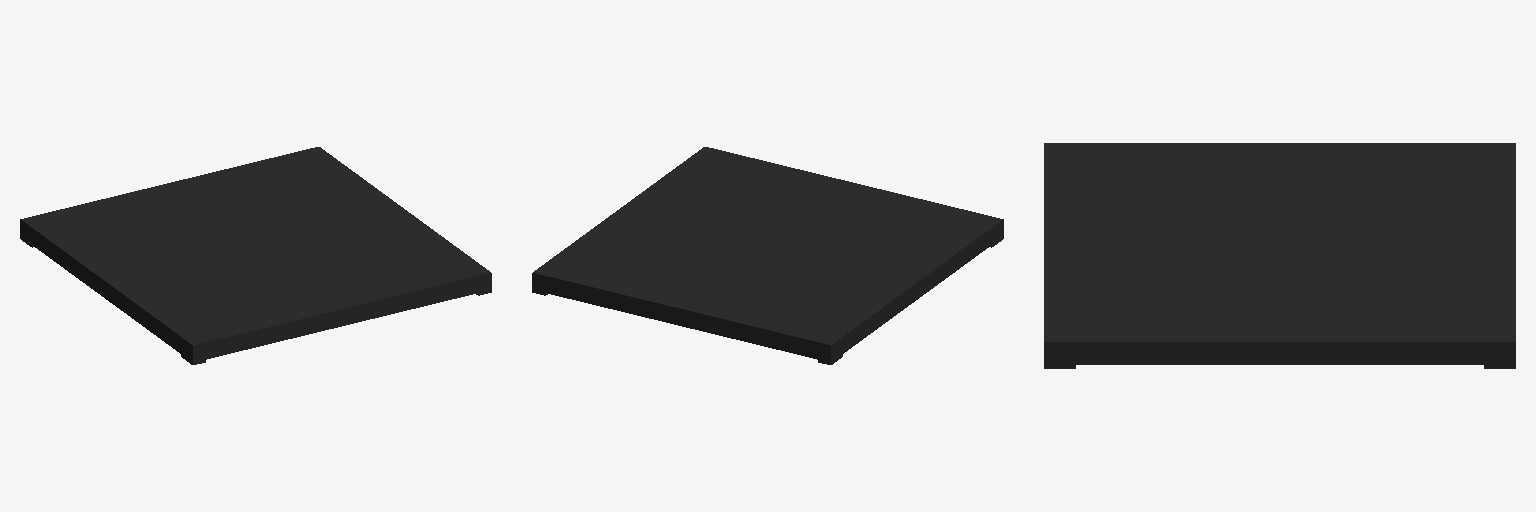
The robot description file, URDF, robot "base":
<?xml version="1.0" encoding="utf-8"?>
<!-- This URDF was automatically created by SolidWorks to URDF Exporter! Originally created by [author] ([email redacted]) 
     Commit Version: 1.6.0-1-g15f4949  Build Version: 1.6.7594.29634
     For more information, please see http://wiki.ros.org/sw_urdf_exporter -->
<robot
  name="base">
  <link
    name="base_link">
    <inertial>
      <origin
        xyz="0 0 0"
        rpy="0 0 0" />
      <mass
        value="5.0721" />
      <inertia
        ixx="0.0861194667547599"
        ixy="1.55375392879876E-17"
        ixz="2.70309389292529E-16"
        iyy="0.171727535"
        iyz="1.46649616413363E-19"
        izz="0.0861394667547598" />
    </inertial>
    <visual>
      <origin
        xyz="0 0 0"
        rpy="0 0 0" />
      <geometry>
        <mesh
          filename="package://base/meshes/base_link.STL" />
      </geometry>
      <material
        name="">
        <color
          rgba="0.2 0.2 0.2 1" />
      </material>
    </visual>
    <collision>
      <origin
        xyz="0 0 0"
        rpy="0 0 0" />
      <geometry>
        <mesh
          filename="package://base/meshes/base_link.STL" />
      </geometry>
    </collision>
  </link>
</robot>

--- Render facts (derived) ---
Views: 3 orthographic renders of the robot side by side, from view 1: azimuth 30°, elevation 25°; view 2: azimuth 150°, elevation 25°; view 3: azimuth 270°, elevation 25°.
Model base with 1 links and 0 joints (none), rooted at base_link, posed every joint at zero.
Links seen in each view (by area): view 1: base_link; view 2: base_link; view 3: base_link.
Boxes of the visible links, x1,y1,x2,y2 form: base_link: [20, 147, 491, 364]; base_link: [532, 147, 1003, 364]; base_link: [1044, 143, 1515, 368].
Bounding box of the posed robot: 0.45 × 0.45 × 0.029 m (x, y, z).
1 mesh visuals loaded from 1 distinct referenced files (1 binary STL).